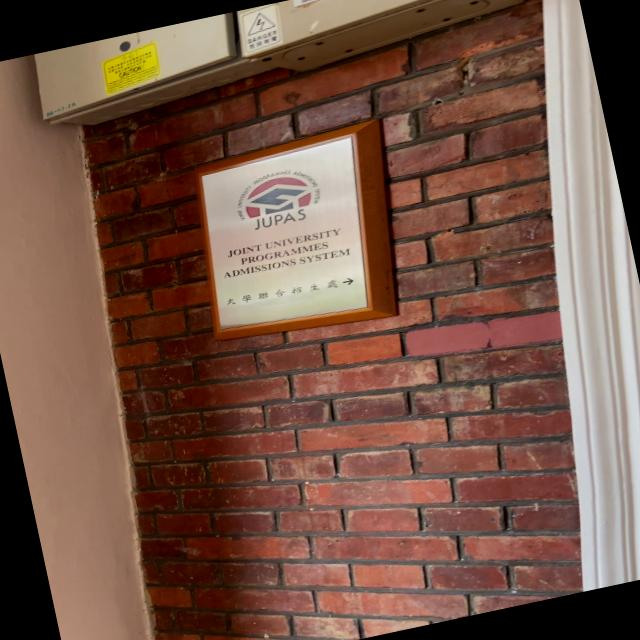jupasOffice: (176, 108, 427, 356)
